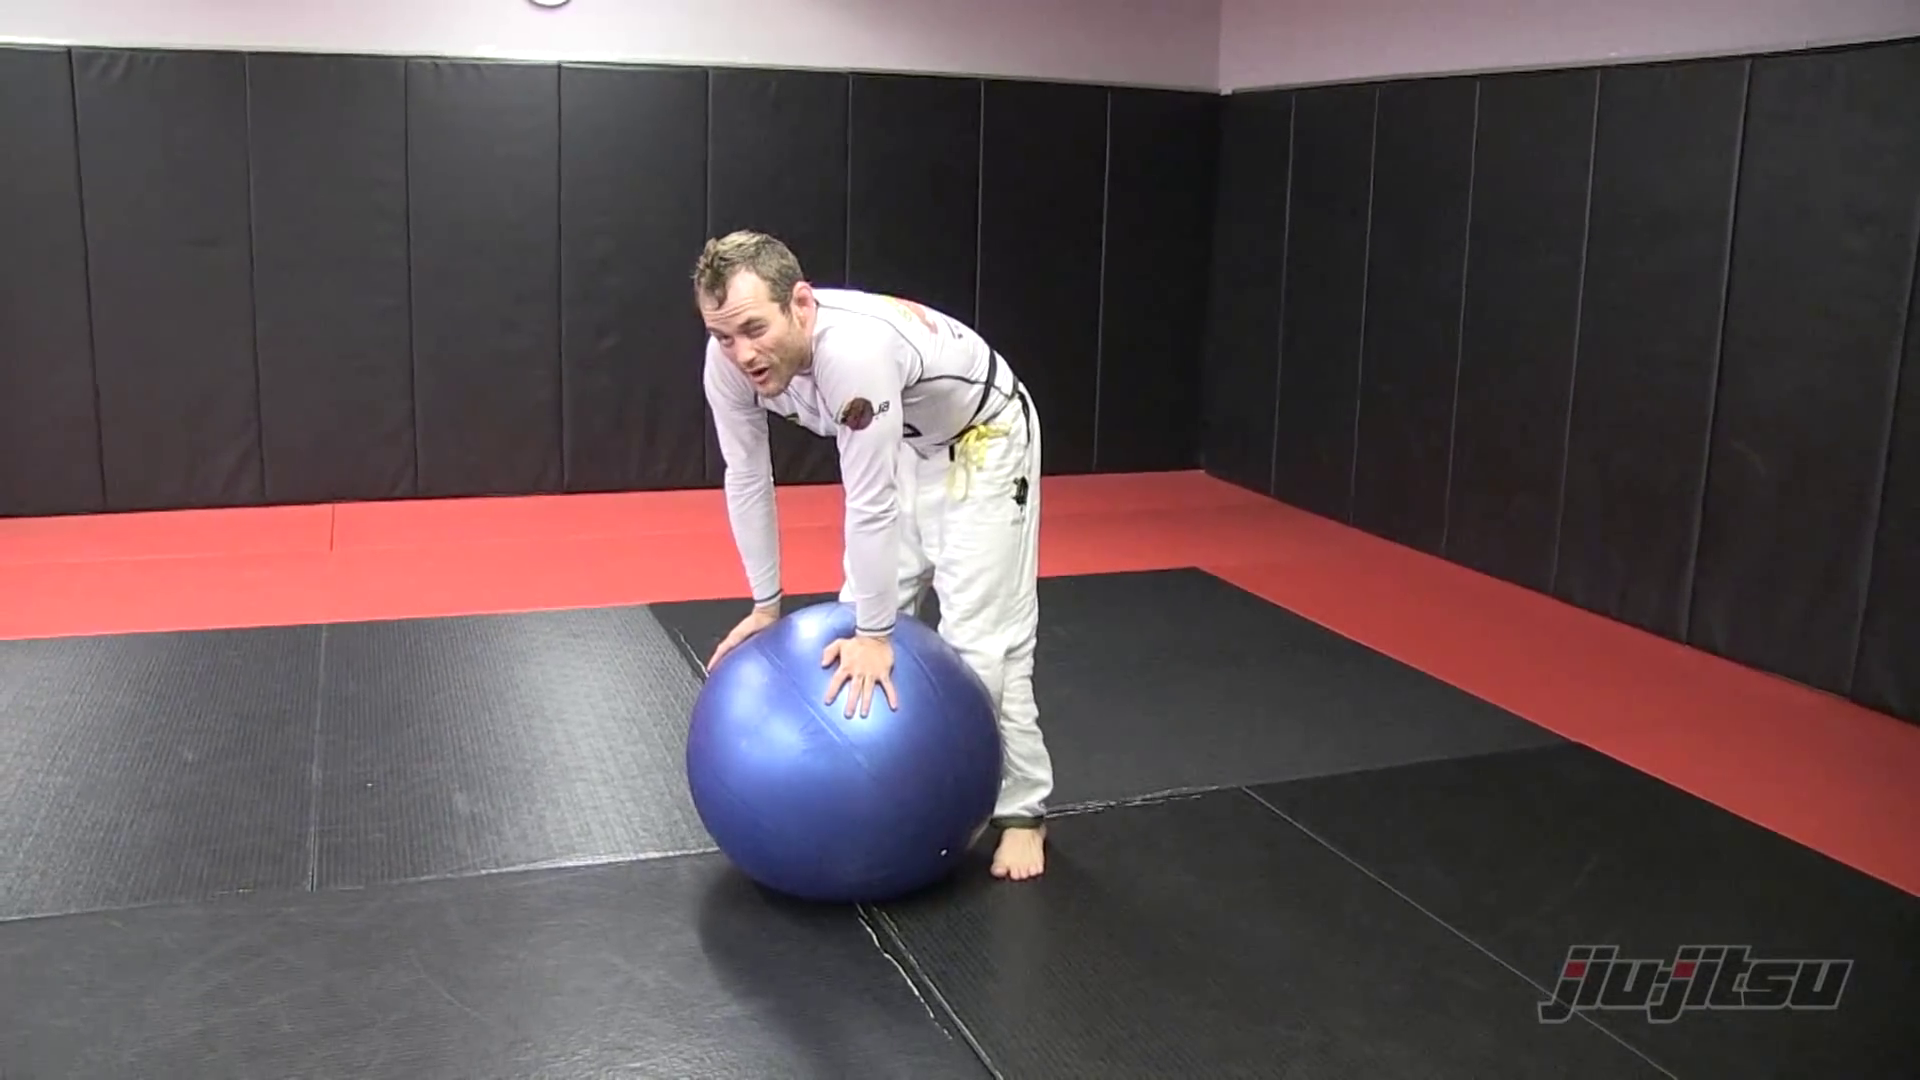yogaball: (669, 603, 1035, 903)
